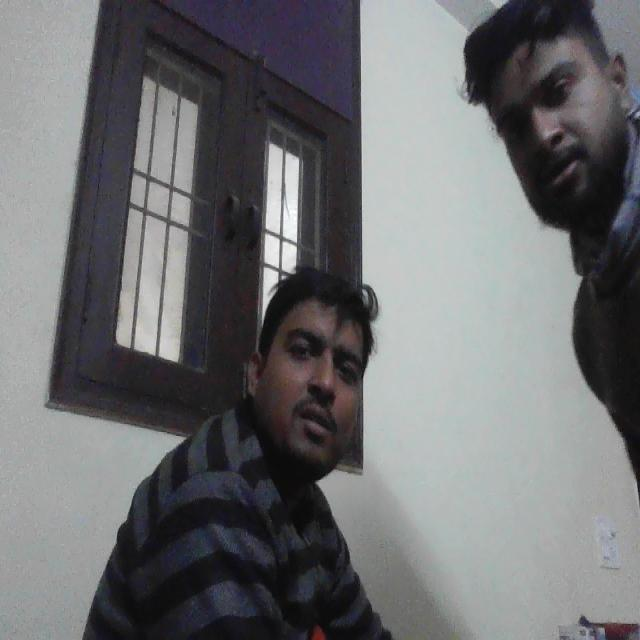real: (248, 248, 368, 475), (504, 0, 622, 224)
